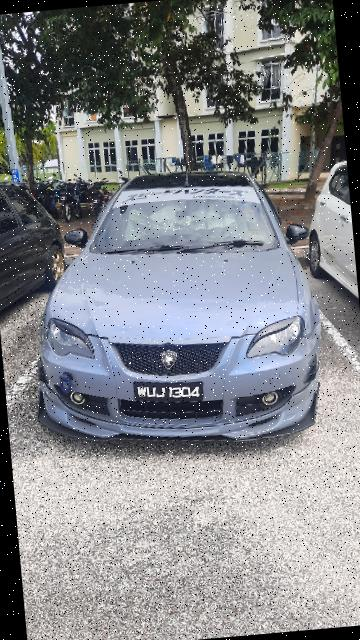License_Plate: (130, 372, 206, 411)
car: (20, 156, 335, 463)
